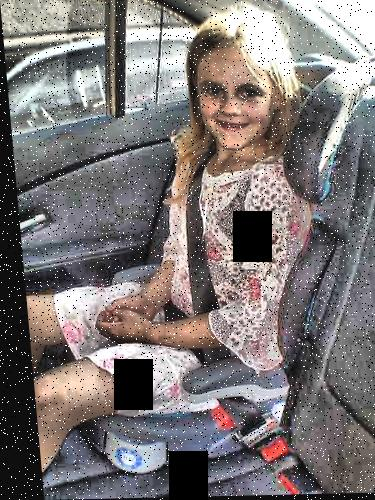seatbelt: (135, 126, 235, 378)
